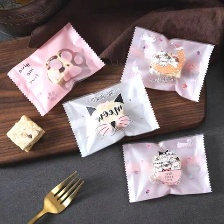snack: (3, 16, 111, 120), (57, 68, 163, 162), (116, 22, 220, 106), (117, 128, 217, 208)
